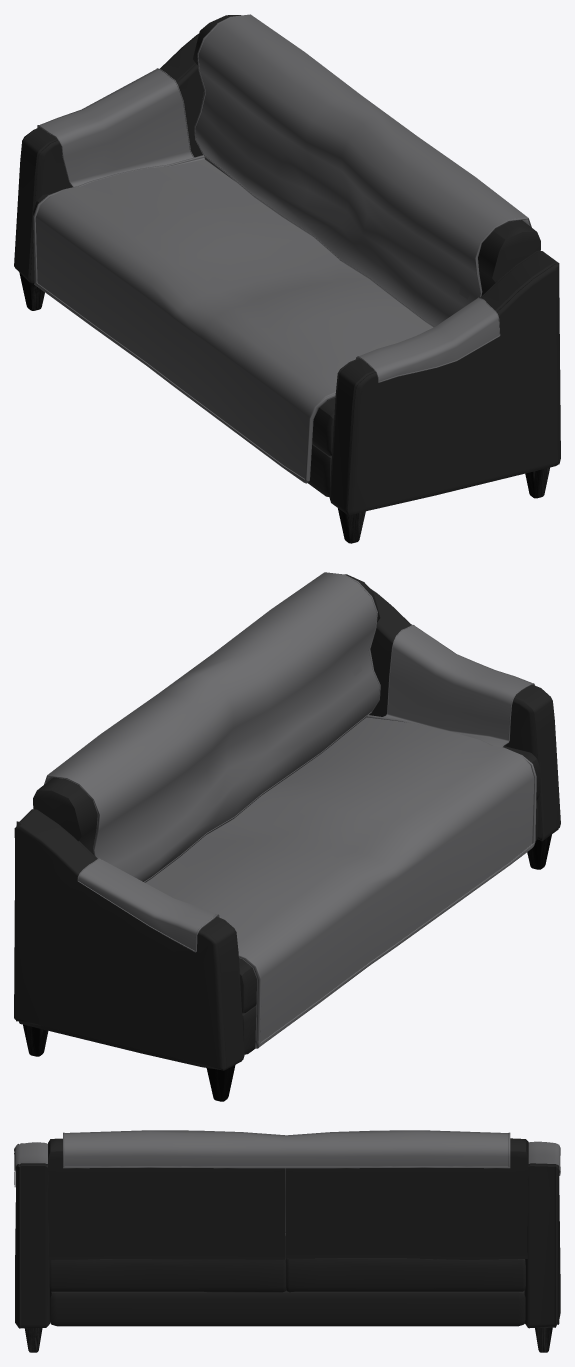
3 renders of one model, top to bottom at view 1: azimuth 30°, elevation 25°; view 2: azimuth 150°, elevation 25°; view 3: azimuth 270°, elevation 25°, orthographic. The views are drawn at different scales.
Visible parts, largest first — view 1: polySurface59.001; view 2: polySurface59.001; view 3: polySurface59.001.
Part boxes in pixels (<box>): polySurface59.001: <box>14,14,560,543</box>; polySurface59.001: <box>14,572,560,1101</box>; polySurface59.001: <box>14,1130,560,1352</box>.
Size of the model in its own units: 0.9226 by 1.06 by 2.45.
Materials: 3 (3 with a texture image).
